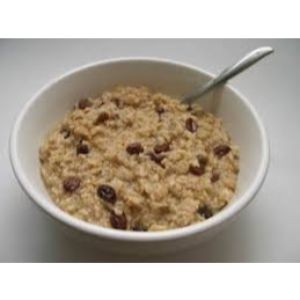oat_brain food: (58, 99, 232, 193)
